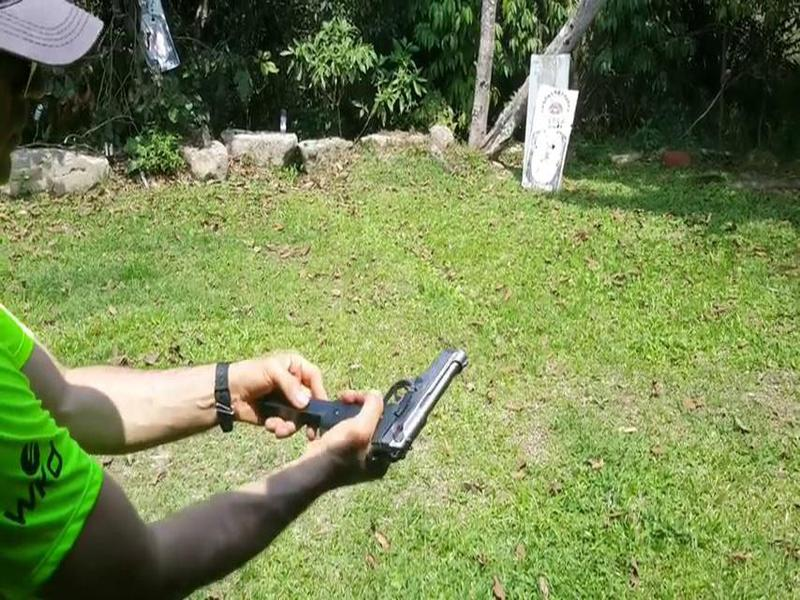Pistola: (311, 316, 474, 462)
